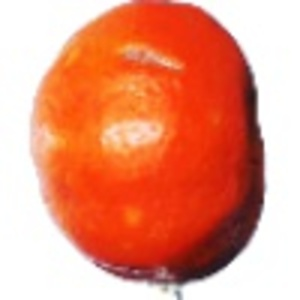tangerina: (28, 1, 268, 300)
